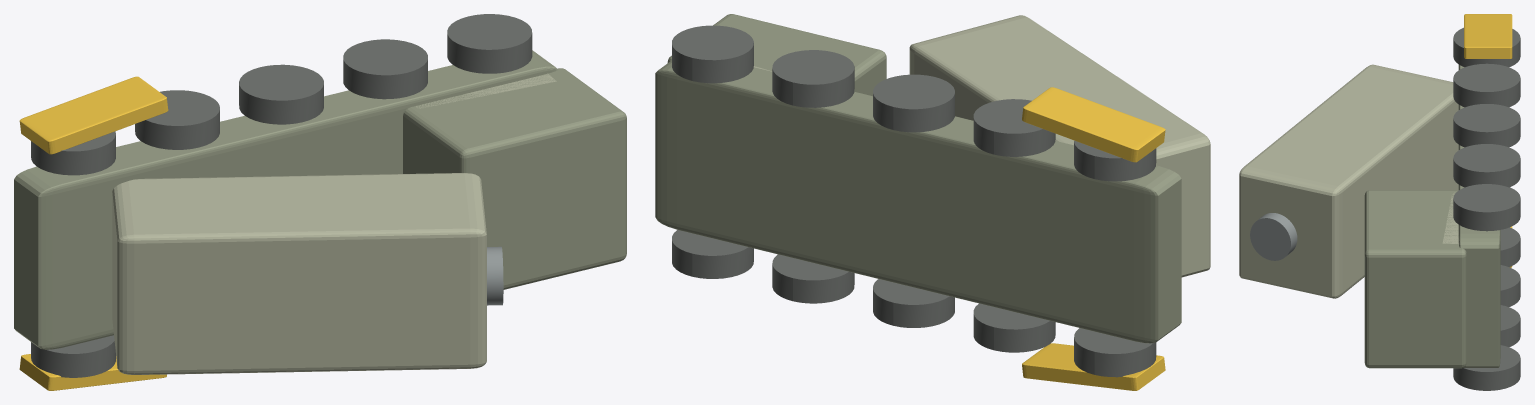
File: v-x01-vanguard-tactical-lod1.glb
3 views of the same model, side by side, from view 1: azimuth 30°, elevation 25°; view 2: azimuth 150°, elevation 25°; view 3: azimuth 270°, elevation 25° (orthographic). The views are drawn at different scales.
Visible parts, largest first — view 1: tactical_canister, strategic_lower, strategic_cab, strategic_jack_1, strategic_wheel_1_4, strategic_wheel_1_2, strategic_wheel_1_3, strategic_wheel_1_1, strategic_wheel_-1_0, strategic_wheel_1_0, strategic_jack_-1, tactical_missile (+1 smaller); view 2: strategic_lower, tactical_canister, strategic_jack_1, strategic_cab, strategic_wheel_1_3, strategic_wheel_1_4, strategic_wheel_1_2, strategic_wheel_1_1, strategic_wheel_-1_1, strategic_wheel_-1_3, strategic_jack_-1, strategic_wheel_-1_4 (+3 smaller); view 3: tactical_canister, strategic_cab, strategic_lower, strategic_wheel_1_4, strategic_wheel_1_1, strategic_wheel_1_3, strategic_wheel_1_2, strategic_jack_1, strategic_wheel_-1_4, tactical_missile, strategic_wheel_1_0, strategic_wheel_-1_3 (+3 smaller).
Boxes of the visible parts, bbox=[...] form: tactical_canister: bbox=[112, 173, 486, 374]; strategic_lower: bbox=[14, 50, 557, 349]; strategic_cab: bbox=[403, 68, 626, 289]; strategic_jack_1: bbox=[19, 76, 168, 154]; strategic_wheel_1_4: bbox=[447, 14, 532, 73]; strategic_wheel_1_2: bbox=[239, 64, 323, 124]; strategic_wheel_1_3: bbox=[343, 39, 427, 99]; strategic_wheel_1_1: bbox=[135, 90, 219, 149]; strategic_wheel_-1_0: bbox=[31, 335, 115, 377]; strategic_wheel_1_0: bbox=[31, 131, 115, 175]; strategic_jack_-1: bbox=[19, 354, 166, 390]; tactical_missile: bbox=[487, 246, 503, 305]; strategic_lower: bbox=[655, 60, 1181, 343]; tactical_canister: bbox=[909, 15, 1210, 277]; strategic_jack_1: bbox=[1022, 87, 1165, 162]; strategic_cab: bbox=[667, 14, 886, 96]; strategic_wheel_1_3: bbox=[772, 50, 854, 107]; strategic_wheel_1_4: bbox=[672, 25, 753, 83]; strategic_wheel_1_2: bbox=[873, 74, 954, 132]; strategic_wheel_1_1: bbox=[973, 99, 1055, 156]; strategic_wheel_-1_1: bbox=[973, 303, 1055, 352]; strategic_wheel_-1_3: bbox=[772, 254, 854, 303]; strategic_jack_-1: bbox=[1022, 343, 1165, 390]; strategic_wheel_-1_4: bbox=[672, 230, 753, 278]; tactical_canister: bbox=[1239, 64, 1458, 298]; strategic_cab: bbox=[1364, 190, 1466, 368]; strategic_lower: bbox=[1458, 64, 1500, 367]; strategic_wheel_1_4: bbox=[1453, 184, 1520, 231]; strategic_wheel_1_1: bbox=[1453, 63, 1520, 107]; strategic_wheel_1_3: bbox=[1453, 144, 1520, 187]; strategic_wheel_1_2: bbox=[1453, 104, 1520, 147]; strategic_jack_1: bbox=[1464, 14, 1512, 58]; strategic_wheel_-1_4: bbox=[1453, 345, 1520, 390]; tactical_missile: bbox=[1250, 213, 1297, 260]; strategic_wheel_1_0: bbox=[1453, 27, 1520, 67]; strategic_wheel_-1_3: bbox=[1500, 305, 1520, 347].
Size of what is drawn, in the model's own units: 9.7 by 4.88 by 5.64.
